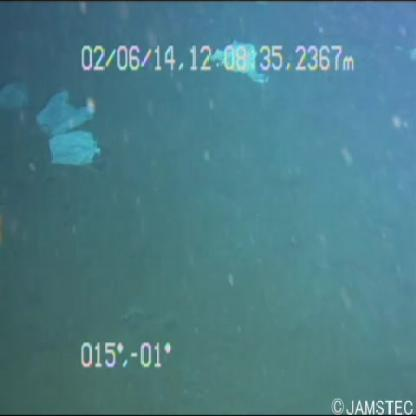Rác: (20, 83, 112, 164), (195, 30, 275, 95)
